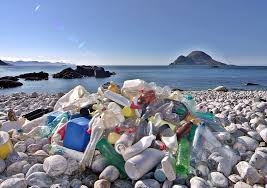plastic: (60, 115, 100, 155), (123, 145, 166, 180), (97, 138, 129, 170), (114, 123, 142, 155), (174, 133, 194, 177), (103, 90, 134, 108)
